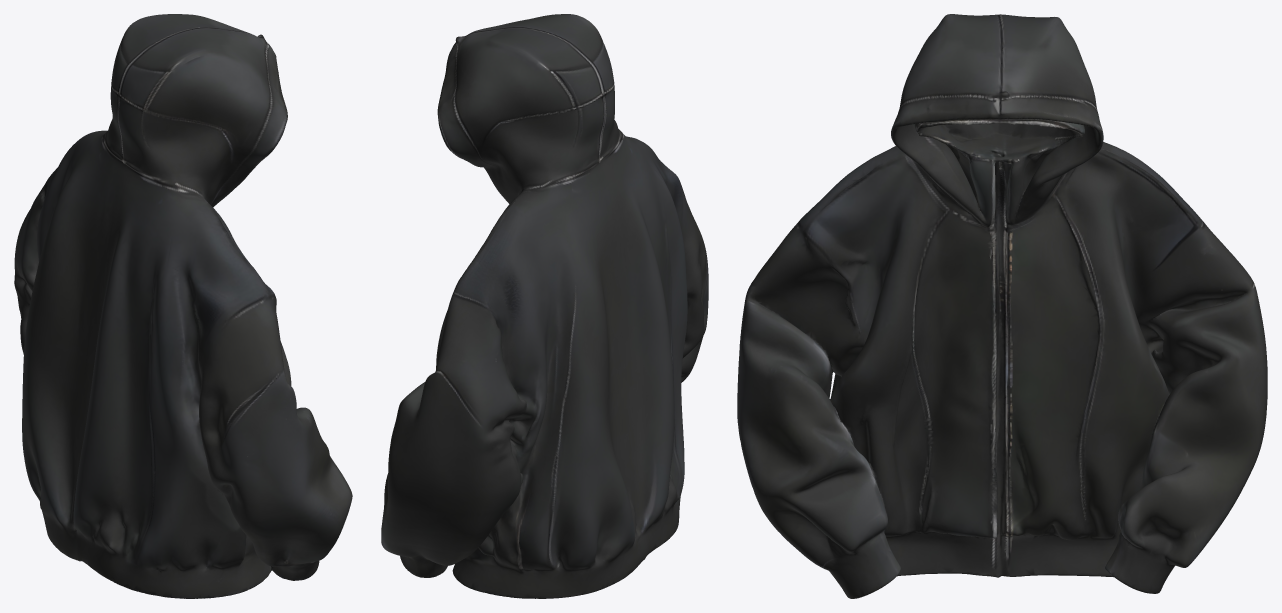
Rendered from tripo_pbr_model_baebc893-38f7-_84a243c5_opt.glb.
3 renders of one model, left to right at view 1: azimuth 30°, elevation 25°; view 2: azimuth 150°, elevation 25°; view 3: azimuth 270°, elevation 25°, orthographic. The views are drawn at different scales.
Visible parts, largest first — view 1: tripo_node_baebc893-38f7-4b14-bbd5-4cdb1f08830a; view 2: tripo_node_baebc893-38f7-4b14-bbd5-4cdb1f08830a; view 3: tripo_node_baebc893-38f7-4b14-bbd5-4cdb1f08830a.
Boxes of the visible parts, x1=… form: tripo_node_baebc893-38f7-4b14-bbd5-4cdb1f08830a: x1=14, y1=14, x2=352, y2=598; tripo_node_baebc893-38f7-4b14-bbd5-4cdb1f08830a: x1=381, y1=14, x2=708, y2=598; tripo_node_baebc893-38f7-4b14-bbd5-4cdb1f08830a: x1=737, y1=14, x2=1267, y2=598.
Size of the model in its own units: 0.4231 by 1 by 0.8784.
Materials: 1 (1 with a texture image).
